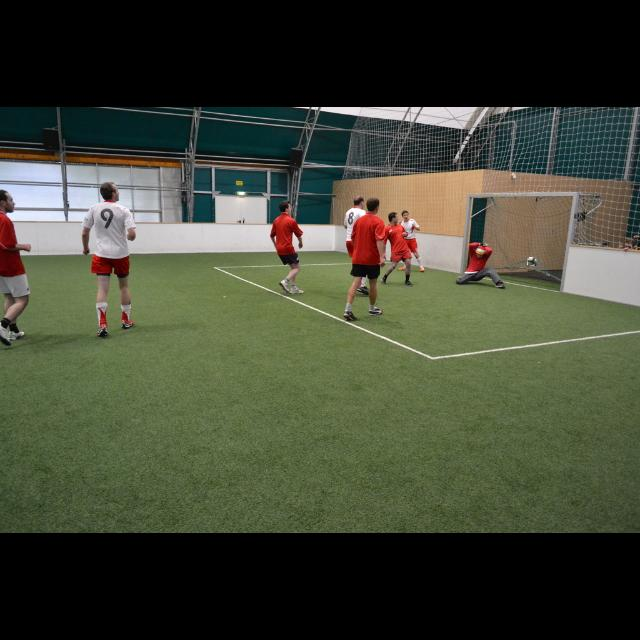Football: (528, 258, 536, 266)
